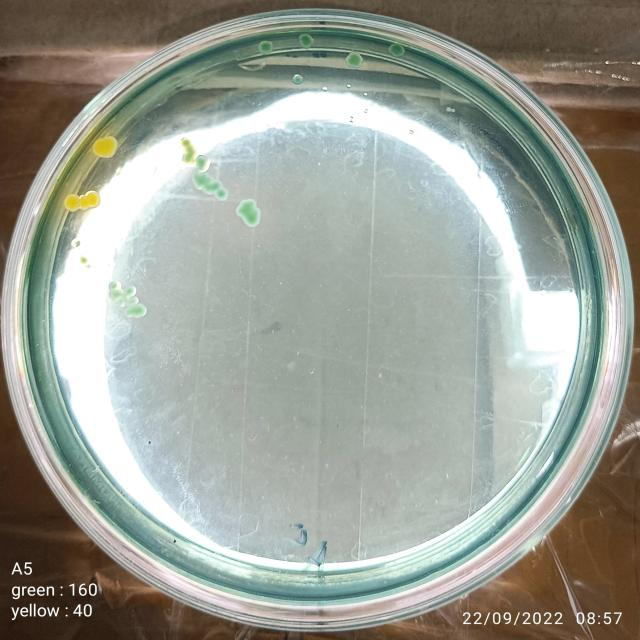green: (235, 197, 260, 229), (179, 136, 196, 165), (126, 304, 147, 318), (346, 52, 363, 68), (192, 172, 208, 188), (196, 154, 210, 172), (387, 43, 405, 57), (206, 178, 220, 194), (299, 34, 314, 48), (215, 188, 229, 201), (259, 41, 272, 53), (124, 286, 138, 297), (109, 290, 124, 300), (109, 281, 122, 290), (292, 74, 303, 84), (127, 297, 140, 305), (118, 300, 126, 308)
yellow: (94, 136, 118, 158), (86, 190, 101, 209), (65, 194, 79, 212), (79, 194, 89, 212)
